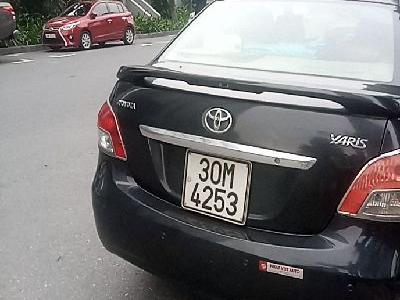lisence: (180, 148, 253, 227)
